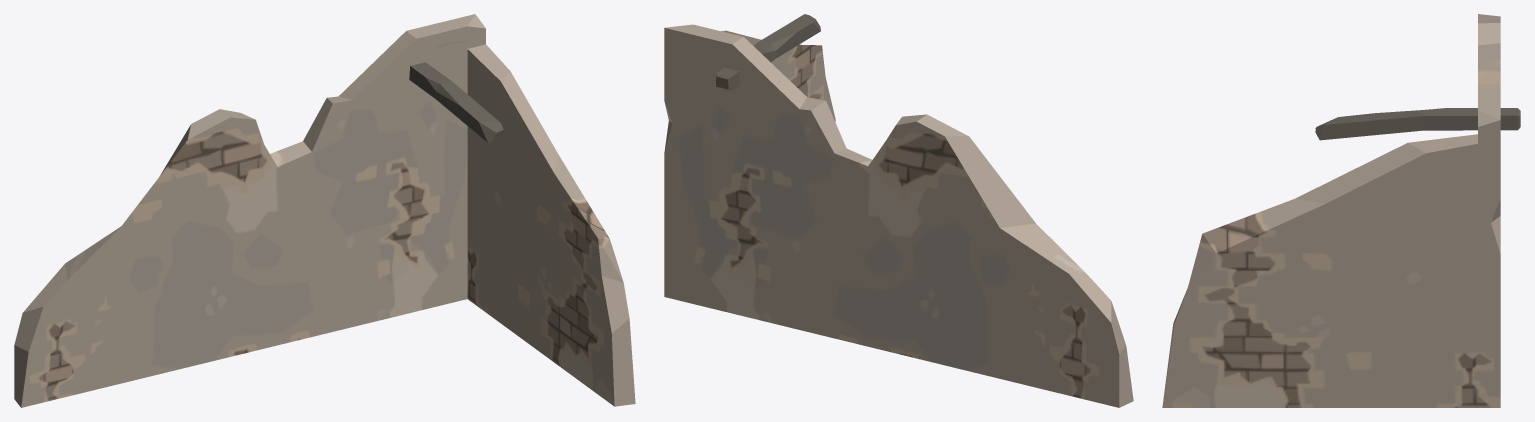
Rendered from SM_Bld_Ruins_04.glb.
3 views of the same model, side by side, from view 1: azimuth 30°, elevation 25°; view 2: azimuth 150°, elevation 25°; view 3: azimuth 270°, elevation 25° (orthographic). The views are drawn at different scales.
Visible parts, largest first — view 1: SM_Bld_Ruins_04; view 2: SM_Bld_Ruins_04; view 3: SM_Bld_Ruins_04.
Part boxes in pixels (x1,y1,x2,y2): SM_Bld_Ruins_04: (14,14,635,407); SM_Bld_Ruins_04: (664,14,1133,407); SM_Bld_Ruins_04: (1162,14,1520,407).
Bounding box in the file's own units: 6.26 × 3.51 × 3.95.
Materials: 1 (1 with a texture image).
